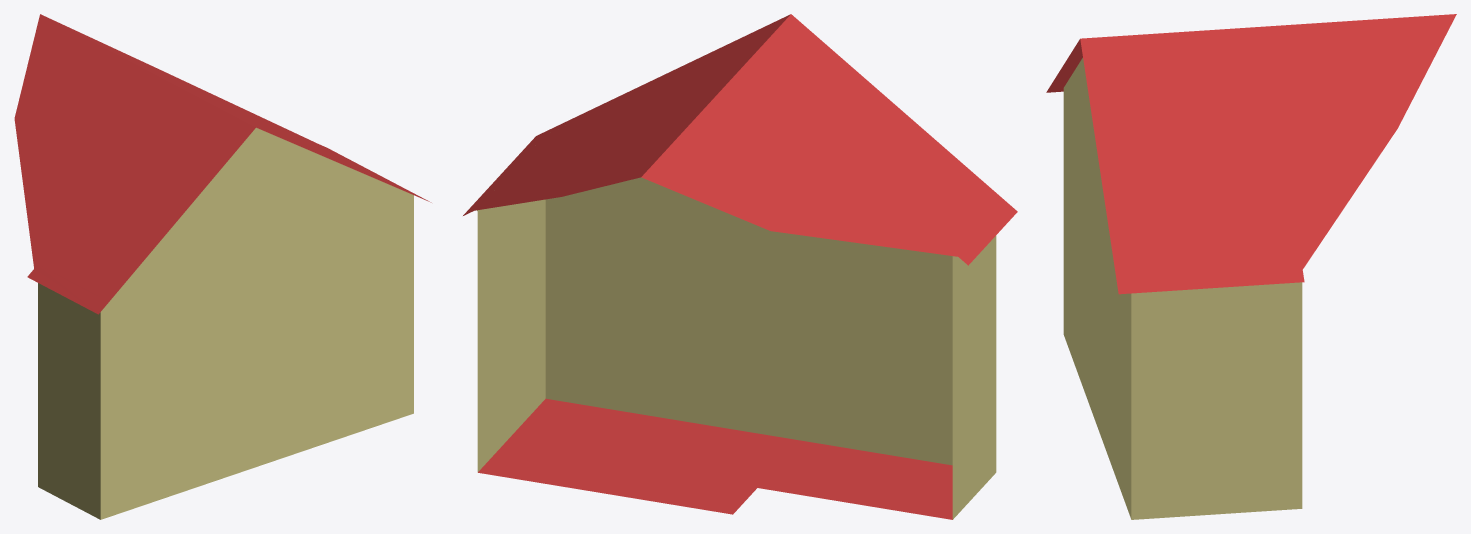
The picture shows the model from 3 angles, left to right: view 1: azimuth 30°, elevation 25°; view 2: azimuth 150°, elevation 25°; view 3: azimuth 270°, elevation 25°; orthographic projection. The views are drawn at different scales.
Bounding box in the file's own units: 15.94 × 13.4 × 13.8.
